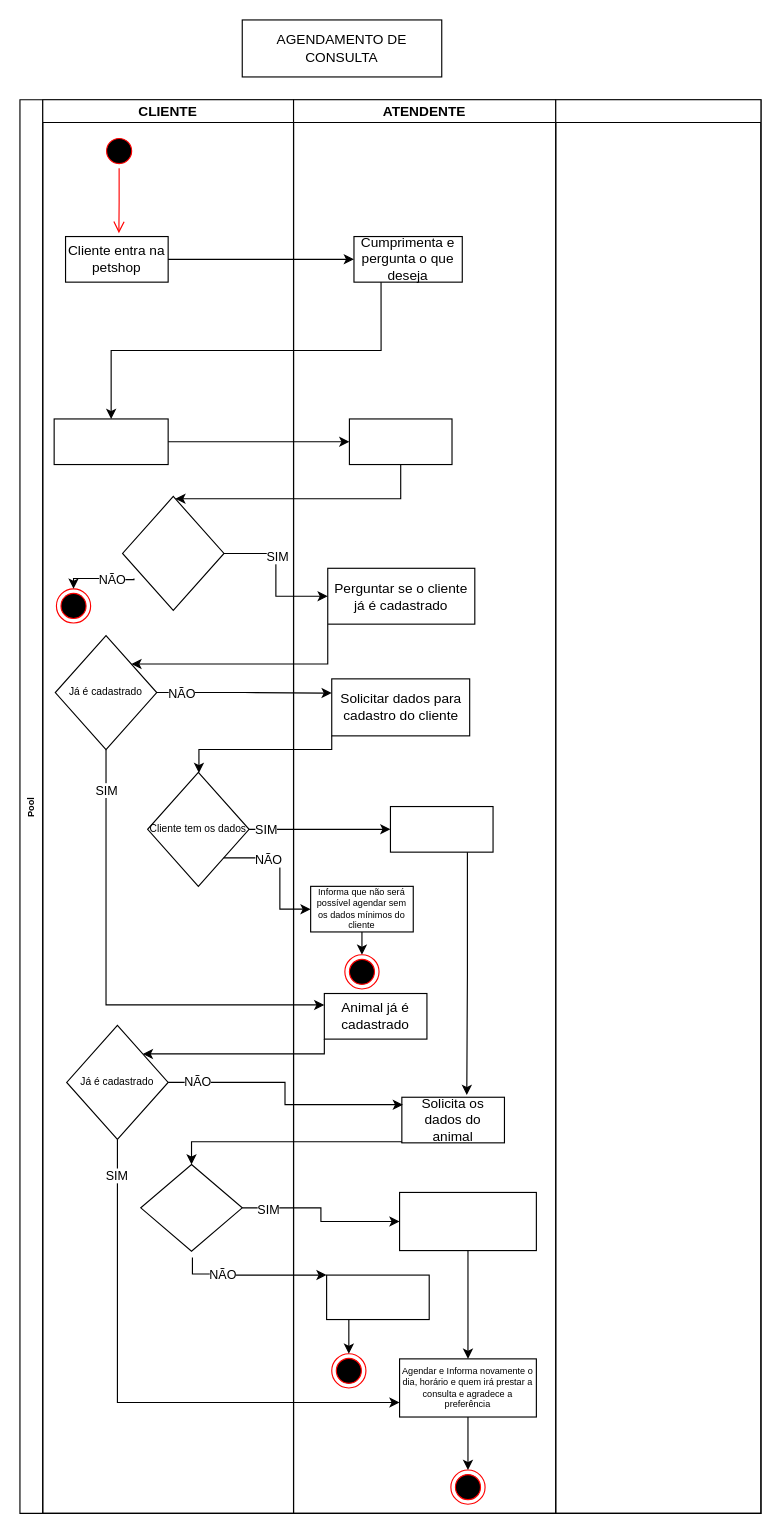
Some shapes in this 781 by 1533 pixel diagram are drawn without their labels. The shapes that lost their labels are listed below. From the top down, each one's centre as x and y in pixels, then its label:
At (110,441): "Solicita agendar uma consulta para o seu animal".
At (400,441): "acessa o sistema e informa os dias diponiveis e horário".
At (172,552): "Se o cliente deseja alguns dos horários disponíveis".
At (658,806): "PROFISSIONAL".
At (441,828): "Preenche o cadastro do cliente".
At (191,1207): "Tem os dado mínimos".
At (467,1221): "Preenche o cadastro do animal e completa na consulta".
At (377,1297): "Informa que não será possível agendar sem os dados mínimos do ANIMAL".
